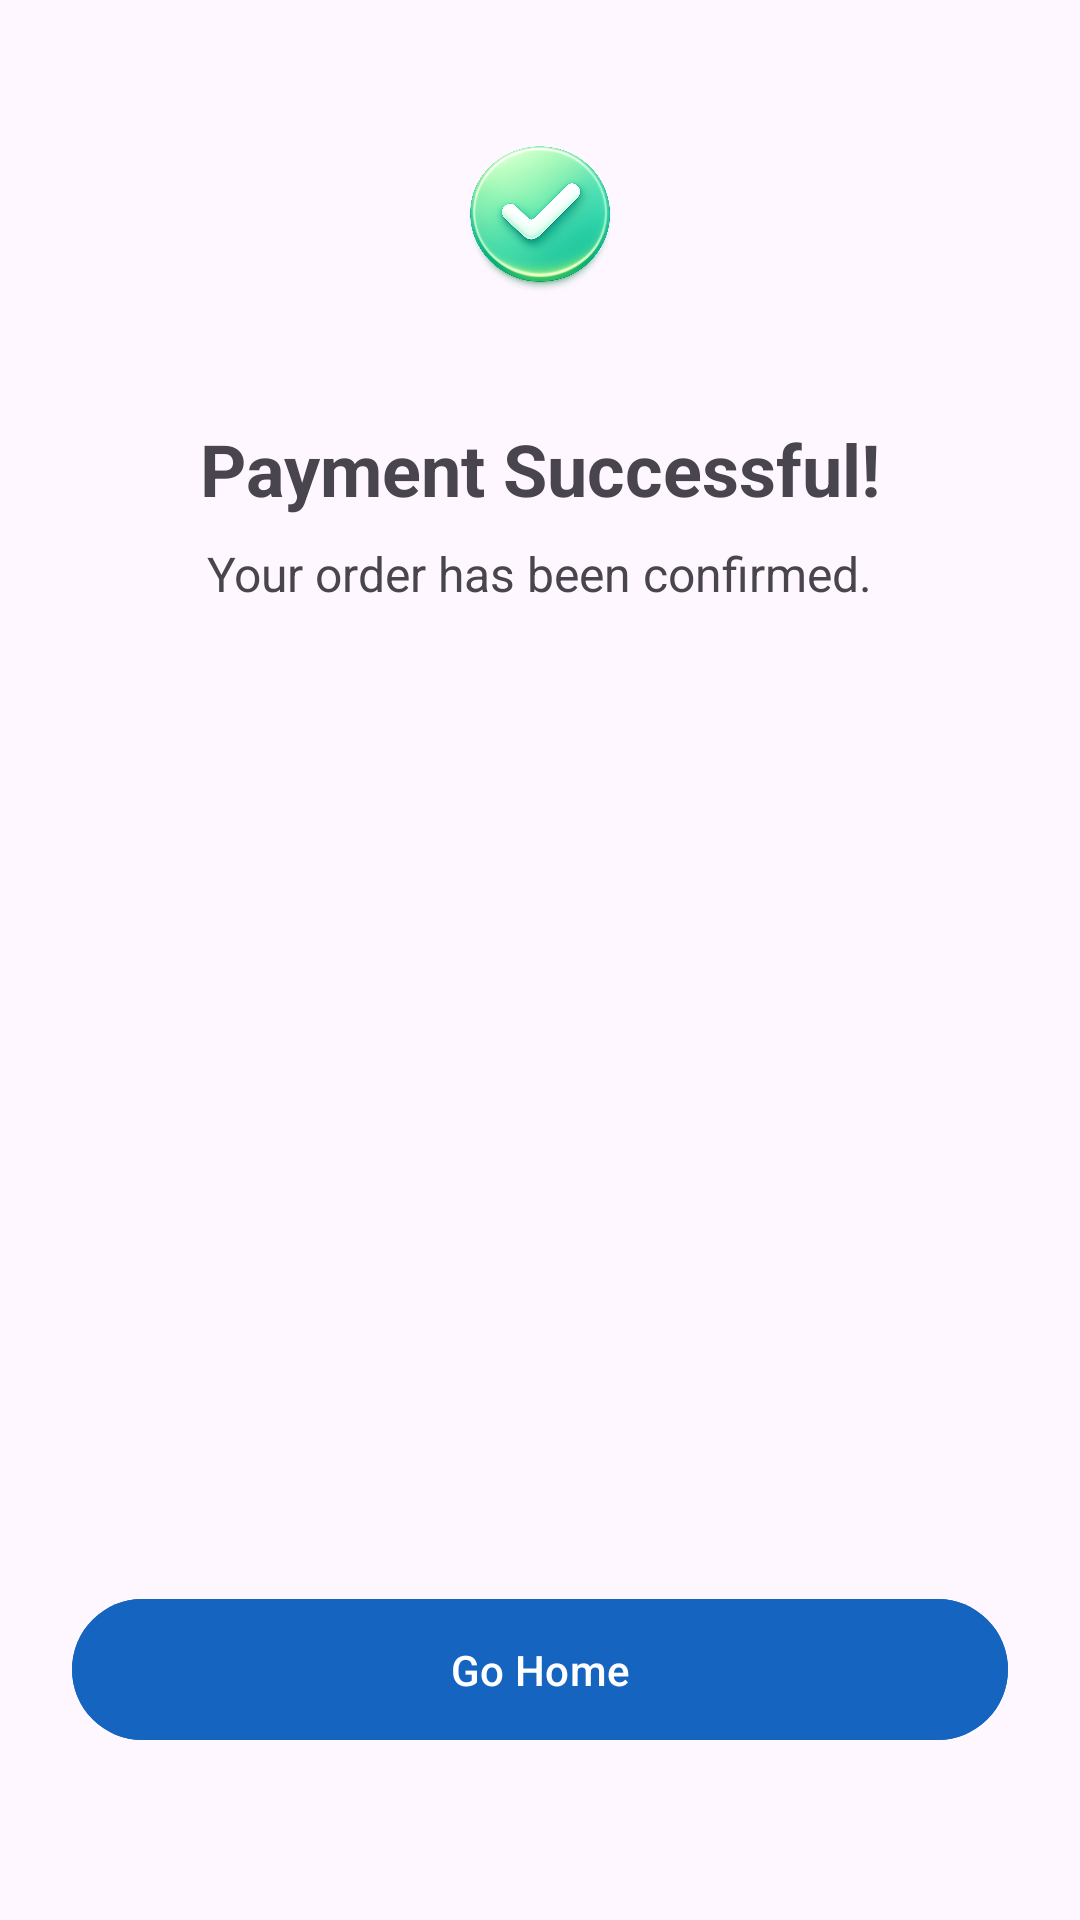

Icon click points for this 1080×1920 phone screenshot, format [x,y]:
confirmationcheck: [540,217]
